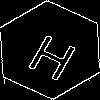H: (24, 25, 84, 82)
